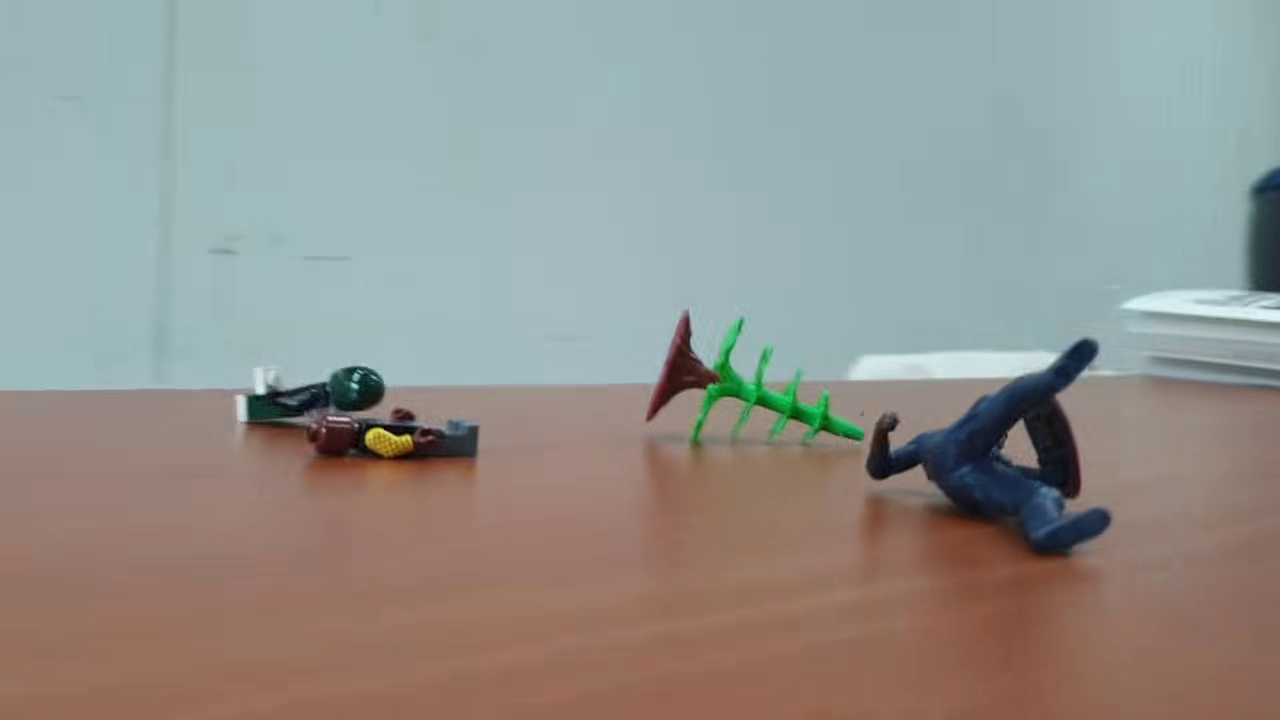people: (866, 336, 1107, 556), (227, 358, 388, 431), (302, 407, 485, 462)
tree: (644, 306, 867, 457)
